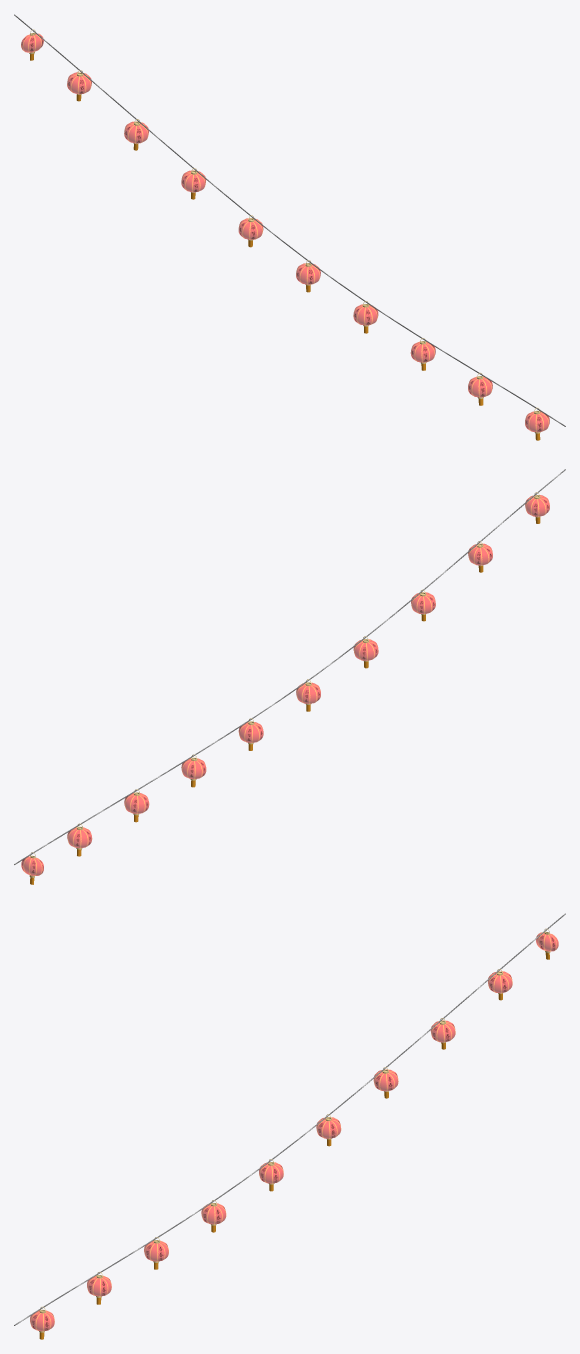
File: SM_lamp_spline_Splines_23.fbx
3 renders of one model, top to bottom at view 1: azimuth 30°, elevation 25°; view 2: azimuth 150°, elevation 25°; view 3: azimuth 330°, elevation 25°, orthographic.
Visible parts, largest first — view 1: SM_lamp_spline_Splines_23; view 2: SM_lamp_spline_Splines_23; view 3: SM_lamp_spline_Splines_23.
Part boxes in pixels (<box>): SM_lamp_spline_Splines_23: <box>14,14,565,440</box>; SM_lamp_spline_Splines_23: <box>14,469,565,884</box>; SM_lamp_spline_Splines_23: <box>14,913,565,1339</box>.
Bounding box in the file's own units: 53.35 × 2408 × 149.
